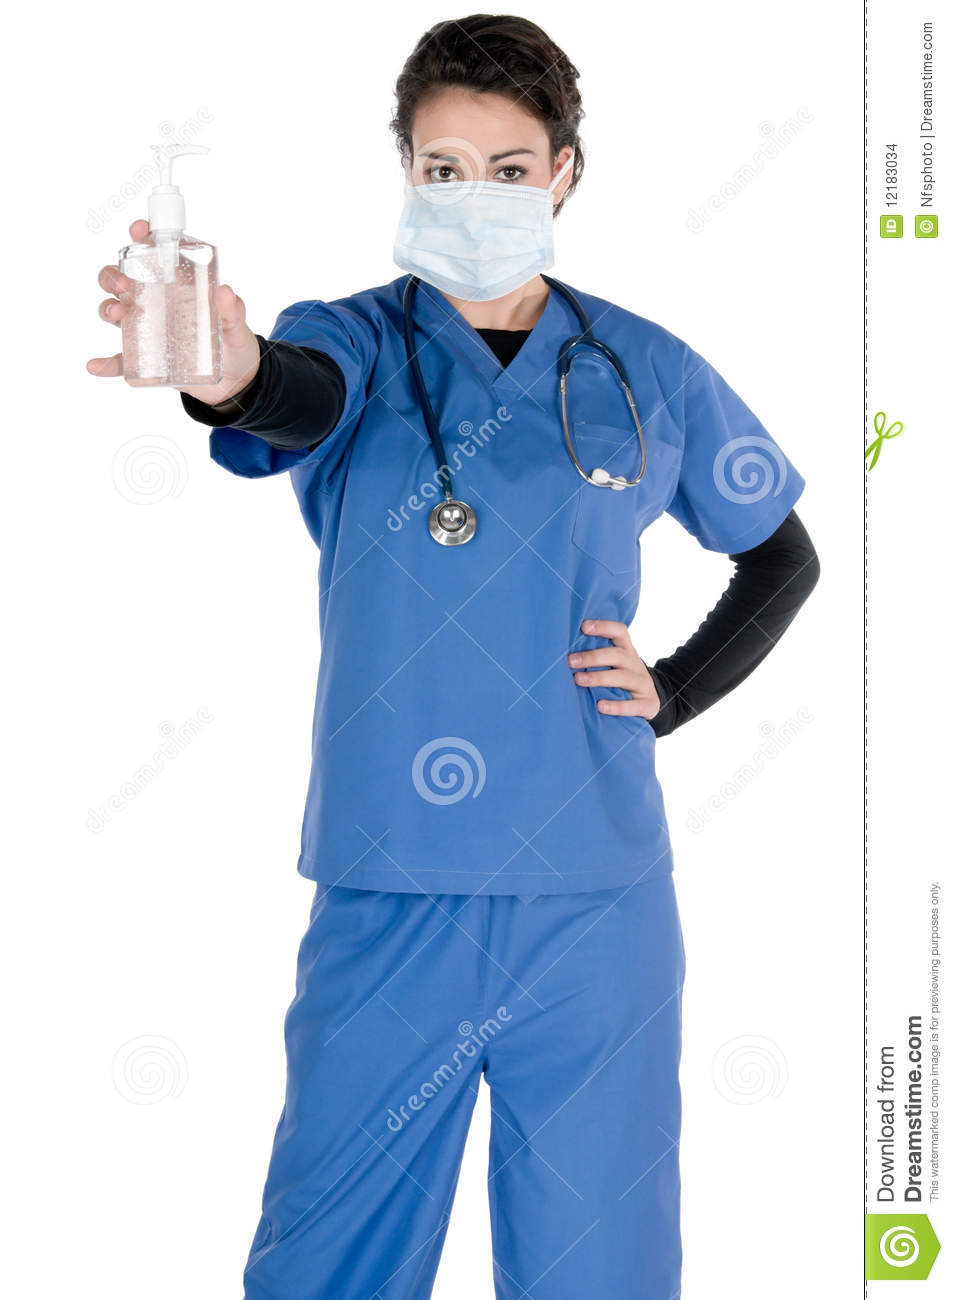mask: (400, 180, 558, 296)
